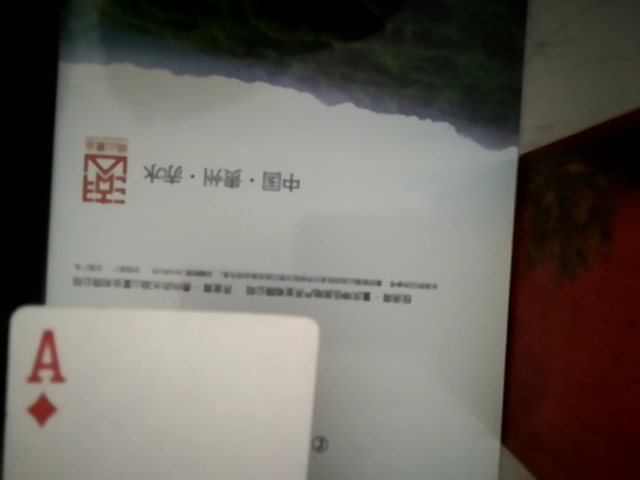fk a: (1, 297, 326, 480)
